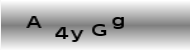4: (53, 25, 69, 40)
A: (25, 14, 43, 29)
G: (91, 23, 107, 37)
g: (110, 15, 126, 30)
y: (69, 28, 84, 43)
